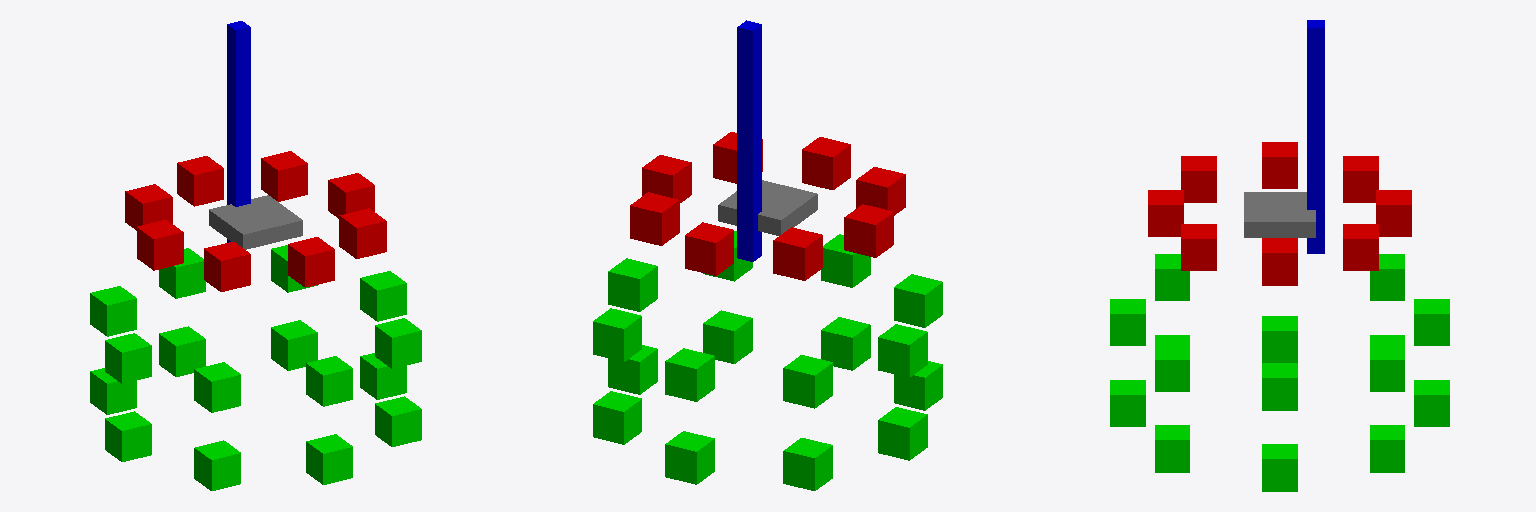
robot.urdf — random_bottle:
<?xml version="1.0"?>
<robot name="random_bottle">

  <!-- Define the cap link -->
  <link name="link1">
    <visual>
      <geometry>
        <mesh filename="cap.obj" scale="1.0 1.0 1.0"/>
      </geometry>
       <material name="white">
        <color rgba=".9 .9 .9 1"/>
      </material>

    </visual>
    <collision>
      <geometry>
        <mesh filename="cap.obj" scale="1.0 1.0 1.0"/>
      </geometry>
    </collision>

    <inertial>
      <mass value="0.019524422948220398"/> <!-- You can adjust the mass as needed -->
      <origin rpy="0 0 0" xyz="0 0 0"/>
      <inertia ixx="5.745037221901823e-06" ixy="0.0" ixz="0.0" iyy="5.745037221901823e-06" iyz="0.0" izz="1.0061479483075449e-05"/>
    </inertial>
  </link>

    <link name="l10">
    <visual>
      <geometry>
        <box size="0.01 0.01 0.01"/>
      </geometry>

      <material name="red">
        <color rgba="0.9 0.0 0.0 1"/>
      </material>

    </visual>

    <inertial>
      <mass value="0.0001"/> <!-- You can adjust the mass as needed -->
      <origin rpy="0 0 0" xyz="0 0 -0.00"/> <!-- Offset by half of link1's height + 0.03m for the margin -->
      <inertia ixx="0.000000003" ixy="0.0" ixz="0.0" iyy="0.0000003" iyz="0.0" izz="0.00000003"/>
    </inertial>

  </link>
  <link name="l11">
    <visual>
      <geometry>
        <box size="0.01 0.01 0.01"/>
      </geometry>

      <material name="red">
        <color rgba="0.9 0.0 0.0 1"/>
      </material>

    </visual>

    <inertial>
      <mass value="0.0001"/> <!-- You can adjust the mass as needed -->
      <origin rpy="0 0 0" xyz="0 0 -0.00"/> <!-- Offset by half of link1's height + 0.03m for the margin -->
      <inertia ixx="0.000000003" ixy="0.0" ixz="0.0" iyy="0.0000003" iyz="0.0" izz="0.00000003"/>
    </inertial>

  </link>
  <link name="l12">
    <visual>
      <geometry>
        <box size="0.01 0.01 0.01"/>
      </geometry>

      <material name="red">
        <color rgba="0.9 0.0 0.0 1"/>
      </material>

    </visual>

    <inertial>
      <mass value="0.0001"/> <!-- You can adjust the mass as needed -->
      <origin rpy="0 0 0" xyz="0 0 -0.00"/> <!-- Offset by half of link1's height + 0.03m for the margin -->
      <inertia ixx="0.000000003" ixy="0.0" ixz="0.0" iyy="0.0000003" iyz="0.0" izz="0.00000003"/>
    </inertial>

  </link>
  <link name="l13">
    <visual>
      <geometry>
        <box size="0.01 0.01 0.01"/>
      </geometry>

      <material name="red">
        <color rgba="0.9 0.0 0.0 1"/>
      </material>

    </visual>

    <inertial>
      <mass value="0.0001"/> <!-- You can adjust the mass as needed -->
      <origin rpy="0 0 0" xyz="0 0 -0.00"/> <!-- Offset by half of link1's height + 0.03m for the margin -->
      <inertia ixx="0.000000003" ixy="0.0" ixz="0.0" iyy="0.0000003" iyz="0.0" izz="0.00000003"/>
    </inertial>

  </link>
  <link name="l10b">
    <visual>
      <geometry>
        <box size="0.01 0.01 0.01"/>
      </geometry>

      <material name="red">
        <color rgba="0.9 0.0 0.0 1"/>
      </material>

    </visual>

    <inertial>
      <mass value="0.0001"/> <!-- You can adjust the mass as needed -->
      <origin rpy="0 0 0" xyz="0 0 -0.00"/> <!-- Offset by half of link1's height + 0.03m for the margin -->
      <inertia ixx="0.000000003" ixy="0.0" ixz="0.0" iyy="0.0000003" iyz="0.0" izz="0.00000003"/>
    </inertial>

  </link>
  <link name="l11b">
    <visual>
      <geometry>
        <box size="0.01 0.01 0.01"/>
      </geometry>

      <material name="red">
        <color rgba="0.9 0.0 0.0 1"/>
      </material>

    </visual>

    <inertial>
      <mass value="0.0001"/> <!-- You can adjust the mass as needed -->
      <origin rpy="0 0 0" xyz="0 0 -0.00"/> <!-- Offset by half of link1's height + 0.03m for the margin -->
      <inertia ixx="0.000000003" ixy="0.0" ixz="0.0" iyy="0.0000003" iyz="0.0" izz="0.00000003"/>
    </inertial>

  </link>
  <link name="l12b">
    <visual>
      <geometry>
        <box size="0.01 0.01 0.01"/>
      </geometry>

      <material name="red">
        <color rgba="0.9 0.0 0.0 1"/>
      </material>

    </visual>

    <inertial>
      <mass value="0.0001"/> <!-- You can adjust the mass as needed -->
      <origin rpy="0 0 0" xyz="0 0 -0.00"/> <!-- Offset by half of link1's height + 0.03m for the margin -->
      <inertia ixx="0.000000003" ixy="0.0" ixz="0.0" iyy="0.0000003" iyz="0.0" izz="0.00000003"/>
    </inertial>

  </link>
  <link name="l13b">
    <visual>
      <geometry>
        <box size="0.01 0.01 0.01"/>
      </geometry>

      <material name="red">
        <color rgba="0.9 0.0 0.0 1"/>
      </material>

    </visual>

    <inertial>
      <mass value="0.0001"/> <!-- You can adjust the mass as needed -->
      <origin rpy="0 0 0" xyz="0 0 -0.00"/> <!-- Offset by half of link1's height + 0.03m for the margin -->
      <inertia ixx="0.000000003" ixy="0.0" ixz="0.0" iyy="0.0000003" iyz="0.0" izz="0.00000003"/>
    </inertial>

  </link>
  <link name="l20">
    <visual>
      <geometry>
        <box size="0.01 0.01 0.01"/>
      </geometry>

      <material name="red">
        <color rgba="0.0 0.9 0.0 1"/>
      </material>

    </visual>

    <inertial>
      <mass value="0.0001"/> <!-- You can adjust the mass as needed -->
      <origin rpy="0 0 0" xyz="0 0 -0.00"/> <!-- Offset by half of link1's height + 0.03m for the margin -->
      <inertia ixx="0.000000003" ixy="0.0" ixz="0.0" iyy="0.0000003" iyz="0.0" izz="0.00000003"/>
    </inertial>

  </link>
  <link name="l21">
    <visual>
      <geometry>
        <box size="0.01 0.01 0.01"/>
      </geometry>

      <material name="red">
        <color rgba="0.0 0.9 0.0 1"/>
      </material>

    </visual>

    <inertial>
      <mass value="0.0001"/> <!-- You can adjust the mass as needed -->
      <origin rpy="0 0 0" xyz="0 0 -0.00"/> <!-- Offset by half of link1's height + 0.03m for the margin -->
      <inertia ixx="0.000000003" ixy="0.0" ixz="0.0" iyy="0.0000003" iyz="0.0" izz="0.00000003"/>
    </inertial>

  </link>
  <link name="l22">
    <visual>
      <geometry>
        <box size="0.01 0.01 0.01"/>
      </geometry>

      <material name="red">
        <color rgba="0.0 0.9 0.0 1"/>
      </material>

    </visual>

    <inertial>
      <mass value="0.0001"/> <!-- You can adjust the mass as needed -->
      <origin rpy="0 0 0" xyz="0 0 -0.00"/> <!-- Offset by half of link1's height + 0.03m for the margin -->
      <inertia ixx="0.000000003" ixy="0.0" ixz="0.0" iyy="0.0000003" iyz="0.0" izz="0.00000003"/>
    </inertial>

  </link>
  <link name="l23">
    <visual>
      <geometry>
        <box size="0.01 0.01 0.01"/>
      </geometry>

      <material name="red">
        <color rgba="0.0 0.9 0.0 1"/>
      </material>

    </visual>

    <inertial>
      <mass value="0.0001"/> <!-- You can adjust the mass as needed -->
      <origin rpy="0 0 0" xyz="0 0 -0.00"/> <!-- Offset by half of link1's height + 0.03m for the margin -->
      <inertia ixx="0.000000003" ixy="0.0" ixz="0.0" iyy="0.0000003" iyz="0.0" izz="0.00000003"/>
    </inertial>

  </link>
  <link name="l24">
    <visual>
      <geometry>
        <box size="0.01 0.01 0.01"/>
      </geometry>

      <material name="red">
        <color rgba="0.0 0.9 0.0 1"/>
      </material>

    </visual>

    <inertial>
      <mass value="0.0001"/> <!-- You can adjust the mass as needed -->
      <origin rpy="0 0 0" xyz="0 0 -0.00"/> <!-- Offset by half of link1's height + 0.03m for the margin -->
      <inertia ixx="0.000000003" ixy="0.0" ixz="0.0" iyy="0.0000003" iyz="0.0" izz="0.00000003"/>
    </inertial>

  </link>
  <link name="l25">
    <visual>
      <geometry>
        <box size="0.01 0.01 0.01"/>
      </geometry>

      <material name="red">
        <color rgba="0.0 0.9 0.0 1"/>
      </material>

    </visual>

    <inertial>
      <mass value="0.0001"/> <!-- You can adjust the mass as needed -->
      <origin rpy="0 0 0" xyz="0 0 -0.00"/> <!-- Offset by half of link1's height + 0.03m for the margin -->
      <inertia ixx="0.000000003" ixy="0.0" ixz="0.0" iyy="0.0000003" iyz="0.0" izz="0.00000003"/>
    </inertial>

  </link>
  <link name="l26">
    <visual>
      <geometry>
        <box size="0.01 0.01 0.01"/>
      </geometry>

      <material name="red">
        <color rgba="0.0 0.9 0.0 1"/>
      </material>

    </visual>

    <inertial>
      <mass value="0.0001"/> <!-- You can adjust the mass as needed -->
      <origin rpy="0 0 0" xyz="0 0 -0.00"/> <!-- Offset by half of link1's height + 0.03m for the margin -->
      <inertia ixx="0.000000003" ixy="0.0" ixz="0.0" iyy="0.0000003" iyz="0.0" izz="0.00000003"/>
    </inertial>

  </link>
  <link name="l27">
    <visual>
      <geometry>
        <box size="0.01 0.01 0.01"/>
      </geometry>

      <material name="red">
        <color rgba="0.0 0.9 0.0 1"/>
      </material>

    </visual>

    <inertial>
      <mass value="0.0001"/> <!-- You can adjust the mass as needed -->
      <origin rpy="0 0 0" xyz="0 0 -0.00"/> <!-- Offset by half of link1's height + 0.03m for the margin -->
      <inertia ixx="0.000000003" ixy="0.0" ixz="0.0" iyy="0.0000003" iyz="0.0" izz="0.00000003"/>
    </inertial>

  </link>
  <link name="l30">
    <visual>
      <geometry>
        <box size="0.01 0.01 0.01"/>
      </geometry>

      <material name="red">
        <color rgba="0.0 0.9 0.0 1"/>
      </material>

    </visual>

    <inertial>
      <mass value="0.0001"/> <!-- You can adjust the mass as needed -->
      <origin rpy="0 0 0" xyz="0 0 -0.00"/> <!-- Offset by half of link1's height + 0.03m for the margin -->
      <inertia ixx="0.000000003" ixy="0.0" ixz="0.0" iyy="0.0000003" iyz="0.0" izz="0.00000003"/>
    </inertial>

  </link>
  <link name="l31">
    <visual>
      <geometry>
        <box size="0.01 0.01 0.01"/>
      </geometry>

      <material name="red">
        <color rgba="0.0 0.9 0.0 1"/>
      </material>

    </visual>

    <inertial>
      <mass value="0.0001"/> <!-- You can adjust the mass as needed -->
      <origin rpy="0 0 0" xyz="0 0 -0.00"/> <!-- Offset by half of link1's height + 0.03m for the margin -->
      <inertia ixx="0.000000003" ixy="0.0" ixz="0.0" iyy="0.0000003" iyz="0.0" izz="0.00000003"/>
    </inertial>

  </link>
  <link name="l32">
    <visual>
      <geometry>
        <box size="0.01 0.01 0.01"/>
      </geometry>

      <material name="red">
        <color rgba="0.0 0.9 0.0 1"/>
      </material>

    </visual>

    <inertial>
      <mass value="0.0001"/> <!-- You can adjust the mass as needed -->
      <origin rpy="0 0 0" xyz="0 0 -0.00"/> <!-- Offset by half of link1's height + 0.03m for the margin -->
      <inertia ixx="0.000000003" ixy="0.0" ixz="0.0" iyy="0.0000003" iyz="0.0" izz="0.00000003"/>
    </inertial>

  </link>
  <link name="l33">
    <visual>
      <geometry>
        <box size="0.01 0.01 0.01"/>
      </geometry>

      <material name="red">
        <color rgba="0.0 0.9 0.0 1"/>
      </material>

    </visual>

    <inertial>
      <mass value="0.0001"/> <!-- You can adjust the mass as needed -->
      <origin rpy="0 0 0" xyz="0 0 -0.00"/> <!-- Offset by half of link1's height + 0.03m for the margin -->
      <inertia ixx="0.000000003" ixy="0.0" ixz="0.0" iyy="0.0000003" iyz="0.0" izz="0.00000003"/>
    </inertial>

  </link>
  <link name="l34">
    <visual>
      <geometry>
        <box size="0.01 0.01 0.01"/>
      </geometry>

      <material name="red">
        <color rgba="0.0 0.9 0.0 1"/>
      </material>

    </visual>

    <inertial>
      <mass value="0.0001"/> <!-- You can adjust the mass as needed -->
      <origin rpy="0 0 0" xyz="0 0 -0.00"/> <!-- Offset by half of link1's height + 0.03m for the margin -->
      <inertia ixx="0.000000003" ixy="0.0" ixz="0.0" iyy="0.0000003" iyz="0.0" izz="0.00000003"/>
    </inertial>

  </link>
  <link name="l35">
    <visual>
      <geometry>
        <box size="0.01 0.01 0.01"/>
      </geometry>

      <material name="red">
        <color rgba="0.0 0.9 0.0 1"/>
      </material>

    </visual>

    <inertial>
      <mass value="0.0001"/> <!-- You can adjust the mass as needed -->
      <origin rpy="0 0 0" xyz="0 0 -0.00"/> <!-- Offset by half of link1's height + 0.03m for the margin -->
      <inertia ixx="0.000000003" ixy="0.0" ixz="0.0" iyy="0.0000003" iyz="0.0" izz="0.00000003"/>
    </inertial>

  </link>
  <link name="l36">
    <visual>
      <geometry>
        <box size="0.01 0.01 0.01"/>
      </geometry>

      <material name="red">
        <color rgba="0.0 0.9 0.0 1"/>
      </material>

    </visual>

    <inertial>
      <mass value="0.0001"/> <!-- You can adjust the mass as needed -->
      <origin rpy="0 0 0" xyz="0 0 -0.00"/> <!-- Offset by half of link1's height + 0.03m for the margin -->
      <inertia ixx="0.000000003" ixy="0.0" ixz="0.0" iyy="0.0000003" iyz="0.0" izz="0.00000003"/>
    </inertial>

  </link>
  <link name="l37">
    <visual>
      <geometry>
        <box size="0.01 0.01 0.01"/>
      </geometry>

      <material name="red">
        <color rgba="0.0 0.9 0.0 1"/>
      </material>

    </visual>

    <inertial>
      <mass value="0.0001"/> <!-- You can adjust the mass as needed -->
      <origin rpy="0 0 0" xyz="0 0 -0.00"/> <!-- Offset by half of link1's height + 0.03m for the margin -->
      <inertia ixx="0.000000003" ixy="0.0" ixz="0.0" iyy="0.0000003" iyz="0.0" izz="0.00000003"/>
    </inertial>

  </link>


  <link name="hint">
    <visual>
      <geometry>
        <box size="0.005 0.005 0.07"/> <!-- 9cm x 9cm x 6cm -->
      </geometry>
       <material name="blue">
        <color rgba=".0 .0 .9 1"/>
      </material>
    </visual>

    <inertial>
      <mass value="0.0001"/> <!-- You can adjust the mass as needed -->
      <origin rpy="0 0 0" xyz="0 0 -0.00"/> <!-- Offset by half of link1's height + 0.03m for the margin -->
      <inertia ixx="0.000000003" ixy="0.0" ixz="0.0" iyy="0.0000003" iyz="0.0" izz="0.00000003"/>
    </inertial>


  </link>

  <!-- Define the base link -->
  <link name="link2">
    <visual>
      <geometry>
        <mesh filename="base.obj" scale="1.0 1.0 1.0"/>
      </geometry>
      <material name="red">
        <color rgba=".9 .3 .3 1"/>
      </material>

    </visual>

    <collision>
      <geometry>
        <mesh filename="base.obj" scale="1.0 1.0 1.0"/>
      </geometry>
    </collision>

    <inertial>
      <mass value="0.04746295616708891"/> <!-- You can adjust the mass as needed -->
      <origin rpy="0 0 0" xyz="0 0 -0.00"/> <!-- Offset by half of link1's height + 0.03m for the margin -->
      <inertia ixx="3.7159547280272676e-05" ixy="0.0" ixz="0.0" iyy="3.7159547280272676e-05" iyz="0.0" izz="4.329142750533323e-05"/>
    </inertial>
  </link>



  <link name="brake">
   <visual>
      <geometry>
        <box size="0.02 0.02 0.005"/> <!-- 6cm x 6cm x 2cm -->
      </geometry>
       <material name="gray">
        <color rgba=".5 .5 .5 1"/>
      </material>

    </visual>
    <collision>
      <geometry>
        <box size="0.02 0.02 0.005"/> <!-- 6cm x 6cm x 2cm -->
      </geometry>
    </collision>

    <inertial>
      <mass value="0.005"/> <!-- You can adjust the mass as needed -->
      <origin rpy="0 0 0" xyz="0 0 0"/>
      <inertia ixx="0.00018" ixy="0.0" ixz="0.0" iyy="0.00018" iyz="0.0" izz="0.00018"/>
    </inertial>
  </link>

  <!-- Define the joint connecting link1 and link2 as a revolute joint along z-axis -->
  <joint name="fix_joint" type="fixed">
    <parent link="link1"/>
    <child link="hint"/>
    <origin rpy="0 0 0" xyz="0 0.01 0.03"/> <!-- Offset by half of link1's height for the margin -->
    <axis xyz="0 0 1"/>
  </joint>

  <!-- Define the joint connecting link1 and link2 as a revolute joint along z-axis -->
  <joint name="brake_joint" type="prismatic">
    <parent link="link2"/>
    <child link="brake"/>
    <origin rpy="0 0 0" xyz="0 0 0.052267058834885964"/> <!-- Offset by half of link1's height for the margin -->
    <axis xyz="0 0 1"/>
    <limit lower="-0.02" upper="0.02" />
    <!-- <dynamics damping="0.0" friction="0.0"/> -->
  </joint>


  <joint name="b_joint" type="revolute">
    <parent link="link2"/>
    <child link="link1"/>
    <origin rpy="0 0 0" xyz="0 0 0.0463143065468216"/> <!-- Offset by half of link1's height for the margin -->
    <axis xyz="0 0 1"/>
    <!-- No joint limits -->
    <dynamics damping="0.0" friction="0.0"/>
  </joint>


  <!-- marker -->
    <joint name="jl10" type="fixed">
    <parent link="link1"/>
    <child link="l10"/>
    <origin rpy="0 0 0" xyz="0.0 0.032103827804284155 0.006285825686419309"/> <!-- Offset by half of link1's height for the margin -->
    <axis xyz="0 0 1"/>
  </joint>
  <joint name="jl11" type="fixed">
    <parent link="link1"/>
    <child link="l11"/>
    <origin rpy="0 0 0" xyz="0.0227008340383213 0.022700834646587807 0.006285825686419309"/> <!-- Offset by half of link1's height for the margin -->
    <axis xyz="0 0 1"/>
  </joint>
  <joint name="jl12" type="fixed">
    <parent link="link1"/>
    <child link="l12"/>
    <origin rpy="0 0 0" xyz="0.03210382780428414 8.602187459993608e-10 0.006285825686419309"/> <!-- Offset by half of link1's height for the margin -->
    <axis xyz="0 0 1"/>
  </joint>
  <joint name="jl13" type="fixed">
    <parent link="link1"/>
    <child link="l13"/>
    <origin rpy="0 0 0" xyz="0.022700835254854293 -0.022700833430054777 0.006285825686419309"/> <!-- Offset by half of link1's height for the margin -->
    <axis xyz="0 0 1"/>
  </joint>
  <joint name="jl10b" type="fixed">
    <parent link="link1"/>
    <child link="l10b"/>
    <origin rpy="0 0 0" xyz="1.720437491998721e-09 -0.032103827804284106 0.006285825686419309"/> <!-- Offset by half of link1's height for the margin -->
    <axis xyz="0 0 1"/>
  </joint>
  <joint name="jl11b" type="fixed">
    <parent link="link1"/>
    <child link="l11b"/>
    <origin rpy="0 0 0" xyz="-0.022700832821788232 -0.022700835863120782 0.006285825686419309"/> <!-- Offset by half of link1's height for the margin -->
    <axis xyz="0 0 1"/>
  </joint>
  <joint name="jl12b" type="fixed">
    <parent link="link1"/>
    <child link="l12b"/>
    <origin rpy="0 0 0" xyz="-0.03210382780428405 -2.5806562237411164e-09 0.006285825686419309"/> <!-- Offset by half of link1's height for the margin -->
    <axis xyz="0 0 1"/>
  </joint>
  <joint name="jl13b" type="fixed">
    <parent link="link1"/>
    <child link="l13b"/>
    <origin rpy="0 0 0" xyz="-0.02270083647138723 0.022700832213521684 0.006285825686419309"/> <!-- Offset by half of link1's height for the margin -->
    <axis xyz="0 0 1"/>
  </joint>
  <joint name="jl20" type="fixed">
    <parent link="link2"/>
    <child link="l20"/>
    <origin rpy="0 0 0" xyz="0.0 0.042710883882657376 0.01878858392809296"/> <!-- Offset by half of link1's height for the margin -->
    <axis xyz="0 0 1"/>
  </joint>
  <joint name="jl21" type="fixed">
    <parent link="link2"/>
    <child link="l21"/>
    <origin rpy="0 0 0" xyz="0.030201155219279827 0.030201156028516665 0.01878858392809296"/> <!-- Offset by half of link1's height for the margin -->
    <axis xyz="0 0 1"/>
  </joint>
  <joint name="jl22" type="fixed">
    <parent link="link2"/>
    <child link="l22"/>
    <origin rpy="0 0 0" xyz="0.04271088388265736 1.1444337166909706e-09 0.01878858392809296"/> <!-- Offset by half of link1's height for the margin -->
    <axis xyz="0 0 1"/>
  </joint>
  <joint name="jl23" type="fixed">
    <parent link="link2"/>
    <child link="l23"/>
    <origin rpy="0 0 0" xyz="0.030201156837753478 -0.030201154410042966 0.01878858392809296"/> <!-- Offset by half of link1's height for the margin -->
    <axis xyz="0 0 1"/>
  </joint>
  <joint name="jl24" type="fixed">
    <parent link="link2"/>
    <child link="l24"/>
    <origin rpy="0 0 0" xyz="2.2888674333819405e-09 -0.04271088388265731 0.01878858392809296"/> <!-- Offset by half of link1's height for the margin -->
    <axis xyz="0 0 1"/>
  </joint>
  <joint name="jl25" type="fixed">
    <parent link="link2"/>
    <child link="l25"/>
    <origin rpy="0 0 0" xyz="-0.030201153600806073 -0.03020115764699029 0.01878858392809296"/> <!-- Offset by half of link1's height for the margin -->
    <axis xyz="0 0 1"/>
  </joint>
  <joint name="jl26" type="fixed">
    <parent link="link2"/>
    <child link="l26"/>
    <origin rpy="0 0 0" xyz="-0.04271088388265724 -3.433301131105466e-09 0.01878858392809296"/> <!-- Offset by half of link1's height for the margin -->
    <axis xyz="0 0 1"/>
  </joint>
  <joint name="jl27" type="fixed">
    <parent link="link2"/>
    <child link="l27"/>
    <origin rpy="0 0 0" xyz="-0.030201158456227055 0.030201152791569177 0.01878858392809296"/> <!-- Offset by half of link1's height for the margin -->
    <axis xyz="0 0 1"/>
  </joint>
  <joint name="jl30" type="fixed">
    <parent link="link2"/>
    <child link="l30"/>
    <origin rpy="0 0 0" xyz="0.0 0.042710883882657376 -0.00626286130936432"/> <!-- Offset by half of link1's height for the margin -->
    <axis xyz="0 0 1"/>
  </joint>
  <joint name="jl31" type="fixed">
    <parent link="link2"/>
    <child link="l31"/>
    <origin rpy="0 0 0" xyz="0.030201155219279827 0.030201156028516665 -0.00626286130936432"/> <!-- Offset by half of link1's height for the margin -->
    <axis xyz="0 0 1"/>
  </joint>
  <joint name="jl32" type="fixed">
    <parent link="link2"/>
    <child link="l32"/>
    <origin rpy="0 0 0" xyz="0.04271088388265736 1.1444337166909706e-09 -0.00626286130936432"/> <!-- Offset by half of link1's height for the margin -->
    <axis xyz="0 0 1"/>
  </joint>
  <joint name="jl33" type="fixed">
    <parent link="link2"/>
    <child link="l33"/>
    <origin rpy="0 0 0" xyz="0.030201156837753478 -0.030201154410042966 -0.00626286130936432"/> <!-- Offset by half of link1's height for the margin -->
    <axis xyz="0 0 1"/>
  </joint>
  <joint name="jl34" type="fixed">
    <parent link="link2"/>
    <child link="l34"/>
    <origin rpy="0 0 0" xyz="2.2888674333819405e-09 -0.04271088388265731 -0.00626286130936432"/> <!-- Offset by half of link1's height for the margin -->
    <axis xyz="0 0 1"/>
  </joint>
  <joint name="jl35" type="fixed">
    <parent link="link2"/>
    <child link="l35"/>
    <origin rpy="0 0 0" xyz="-0.030201153600806073 -0.03020115764699029 -0.00626286130936432"/> <!-- Offset by half of link1's height for the margin -->
    <axis xyz="0 0 1"/>
  </joint>
  <joint name="jl36" type="fixed">
    <parent link="link2"/>
    <child link="l36"/>
    <origin rpy="0 0 0" xyz="-0.04271088388265724 -3.433301131105466e-09 -0.00626286130936432"/> <!-- Offset by half of link1's height for the margin -->
    <axis xyz="0 0 1"/>
  </joint>
  <joint name="jl37" type="fixed">
    <parent link="link2"/>
    <child link="l37"/>
    <origin rpy="0 0 0" xyz="-0.030201158456227055 0.030201152791569177 -0.00626286130936432"/> <!-- Offset by half of link1's height for the margin -->
    <axis xyz="0 0 1"/>
  </joint>



</robot>

--- Render facts (derived) ---
3 views of the same robot in one strip: view 1: azimuth 30°, elevation 25°; view 2: azimuth 150°, elevation 25°; view 3: azimuth 270°, elevation 25° (orthographic).
Robot: random_bottle — 28 links, 27 joints (1 revolute, 1 prismatic, 25 fixed); root link link2; default pose: all joints at 0.
Links seen in each view (by area): view 1: hint, brake, l13, l23, l34, l11, l12b, l26, l35, l10, l10b, l22 (+14 smaller); view 2: hint, brake, l11, l26, l27, l30, l12b, l13b, l20, l22, l36, l37 (+14 smaller); view 3: hint, brake, l12, l22, l32, l11, l13, l12b, l20, l24, l30, l34 (+11 smaller).
Link boxes in pixels (x1=…): hint: x1=227, y1=21, x2=250, y2=242; brake: x1=209, y1=195, x2=302, y2=249; l13: x1=339, y1=208, x2=386, y2=258; l23: x1=375, y1=318, x2=421, y2=368; l34: x1=306, y1=434, x2=352, y2=484; l11: x1=261, y1=151, x2=307, y2=201; l12b: x1=137, y1=220, x2=183, y2=270; l26: x1=105, y1=333, x2=151, y2=383; l35: x1=194, y1=440, x2=240, y2=490; l10: x1=177, y1=156, x2=223, y2=206; l10b: x1=288, y1=237, x2=334, y2=287; l22: x1=360, y1=271, x2=406, y2=321; hint: x1=737, y1=20, x2=761, y2=261; brake: x1=718, y1=180, x2=817, y2=235; l11: x1=630, y1=192, x2=679, y2=245; l26: x1=878, y1=324, x2=927, y2=377; l27: x1=783, y1=355, x2=832, y2=408; l30: x1=665, y1=431, x2=714, y2=484; l12b: x1=844, y1=204, x2=893, y2=257; l13b: x1=773, y1=227, x2=822, y2=280; l20: x1=665, y1=348, x2=714, y2=401; l22: x1=608, y1=258, x2=657, y2=311; l36: x1=878, y1=407, x2=927, y2=460; l37: x1=783, y1=438, x2=832, y2=490; hint: x1=1307, y1=20, x2=1324, y2=253; brake: x1=1244, y1=192, x2=1315, y2=237; l12: x1=1262, y1=238, x2=1297, y2=285; l22: x1=1262, y1=363, x2=1297, y2=410; l32: x1=1262, y1=444, x2=1297, y2=491; l11: x1=1343, y1=224, x2=1378, y2=270; l13: x1=1181, y1=224, x2=1216, y2=270; l12b: x1=1262, y1=142, x2=1297, y2=188; l20: x1=1414, y1=299, x2=1449, y2=345; l24: x1=1110, y1=299, x2=1145, y2=345; l30: x1=1414, y1=380, x2=1449, y2=426; l34: x1=1110, y1=380, x2=1145, y2=426.
Size in the robot's own frame: 0.0954 by 0.0954 by 0.1226 metres.
0 mesh visuals loaded from 2 distinct referenced files (none loaded); not drawn: 2 (reference not matched to a file when rendering).
